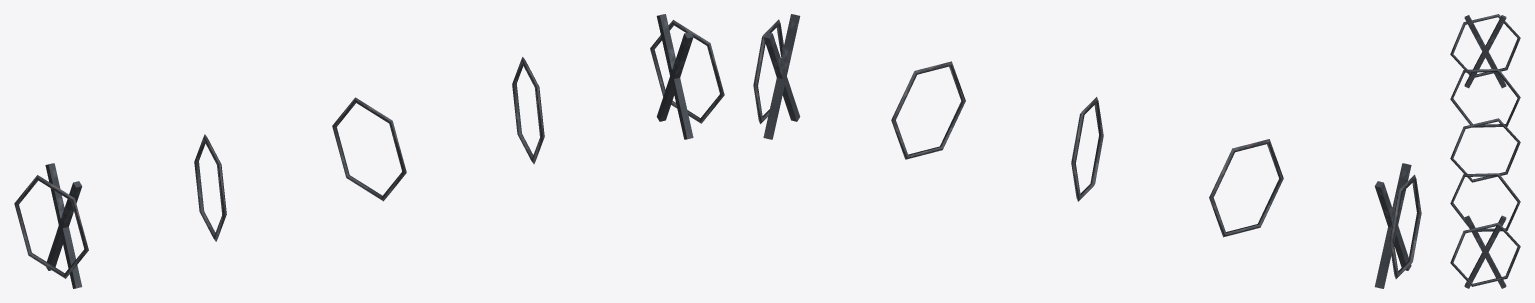
Rendered from map_barbed_wire.glb.
3 renders of one model, left to right at view 1: azimuth 30°, elevation 25°; view 2: azimuth 150°, elevation 25°; view 3: azimuth 270°, elevation 25°, orthographic. The views are drawn at different scales.
Parts seen in each view (by area): view 1: barbed_wire_root; view 2: barbed_wire_root; view 3: barbed_wire_root.
Boxes of the visible parts, x1=… form: barbed_wire_root: x1=14, y1=14, x2=724, y2=288; barbed_wire_root: x1=753, y1=14, x2=1421, y2=288; barbed_wire_root: x1=1450, y1=14, x2=1520, y2=288.
Bounding box in the file's own units: 3.24 × 0.4993 × 0.4463.
Materials: 1 (1 with a texture image).
